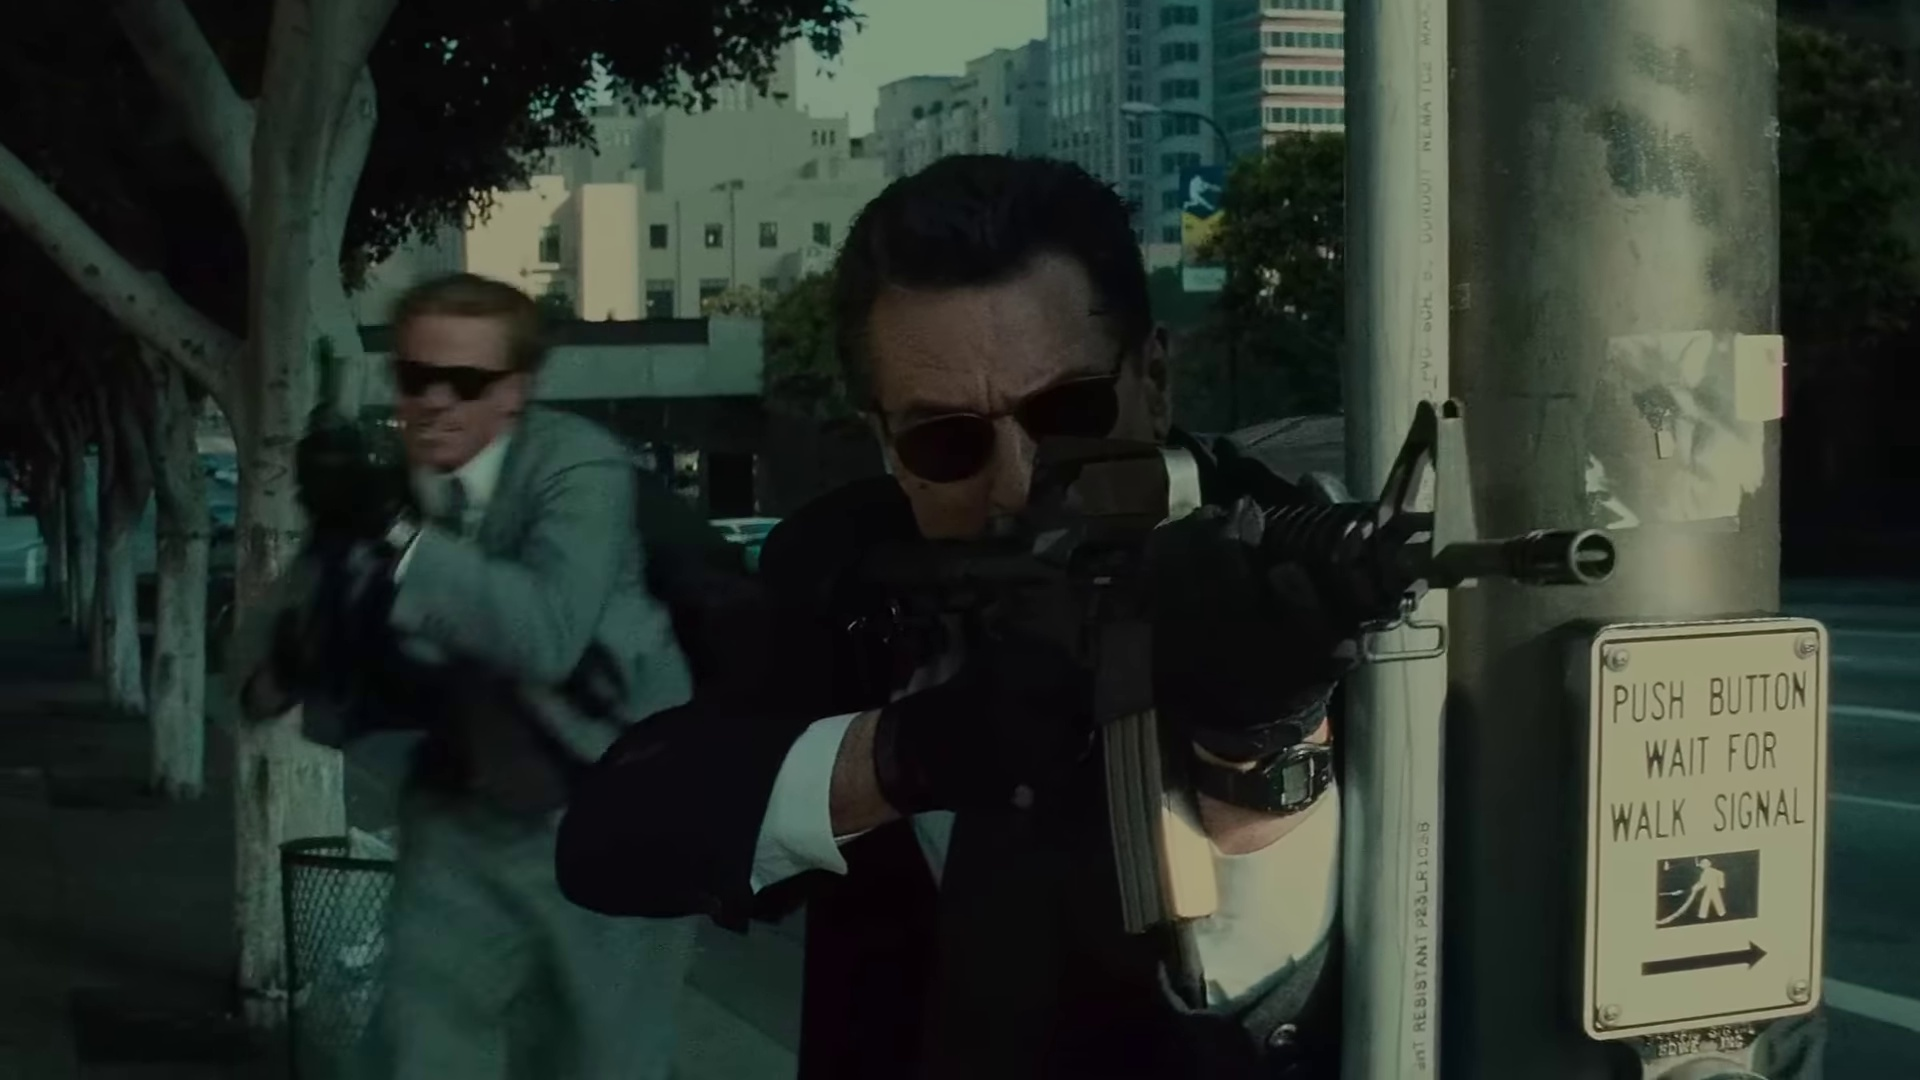gun: (804, 382, 1626, 942), (281, 385, 417, 575)
p_w_gun: (550, 141, 1639, 1080), (248, 266, 725, 1080)
